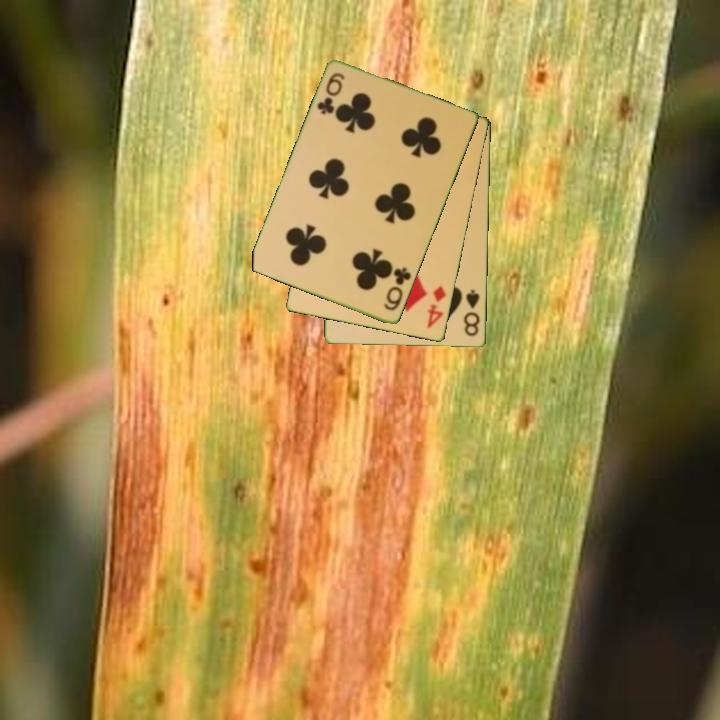4d: (424, 282, 449, 332)
6c: (380, 264, 414, 314), (313, 70, 348, 118)
8s: (460, 286, 483, 339)
